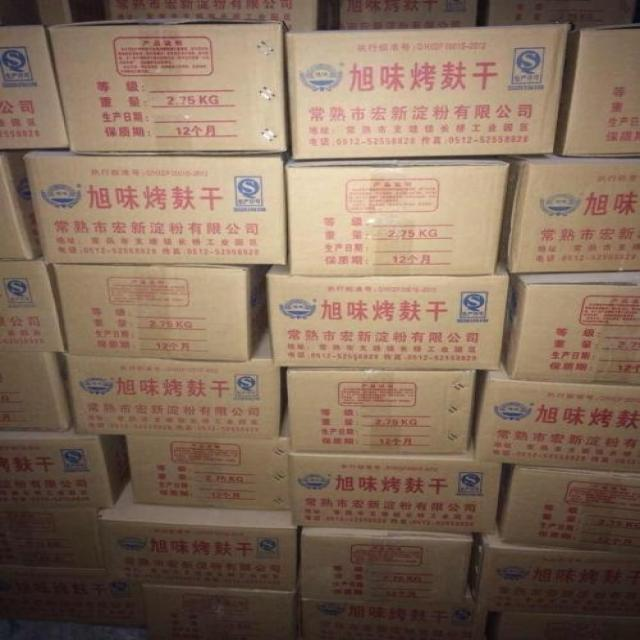box: (284, 22, 570, 160), (51, 18, 291, 155), (26, 148, 289, 266), (284, 155, 509, 276), (65, 326, 284, 446), (268, 265, 515, 367), (99, 483, 297, 592), (51, 262, 269, 360), (468, 366, 640, 475), (289, 452, 502, 533), (498, 154, 640, 273), (125, 411, 289, 510), (288, 367, 475, 452), (502, 272, 640, 386), (468, 533, 640, 617), (300, 527, 472, 606), (499, 463, 640, 557), (557, 23, 640, 157), (297, 583, 489, 640), (0, 431, 131, 506), (142, 583, 300, 640), (0, 566, 142, 628), (0, 25, 69, 149), (0, 507, 108, 571), (0, 352, 77, 436), (108, 0, 317, 30), (0, 260, 67, 353), (0, 151, 41, 263), (488, 0, 640, 30), (497, 610, 640, 640), (339, 0, 476, 30)
